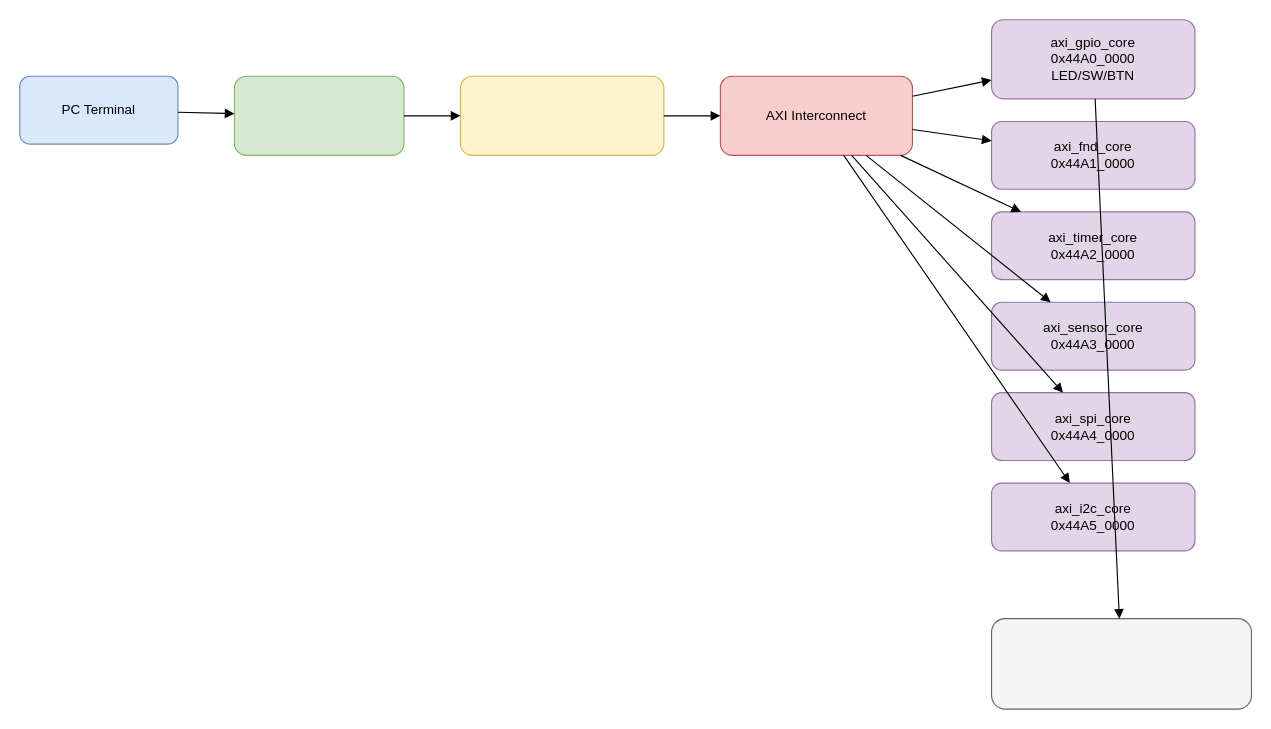
The diagram is 1271 pixels wide and 729 high, and some of its shapes have lost their labels. The centre of each missing label's shape, as x and y in pixels:
AXI UART Lite 0x4060_0000: the point at 318,115
Basys3 external devices LED, switches, buttons, FND, sensors, SPI, I2C: the point at 1120,663
MicroBlaze software command parser: the point at 561,115
